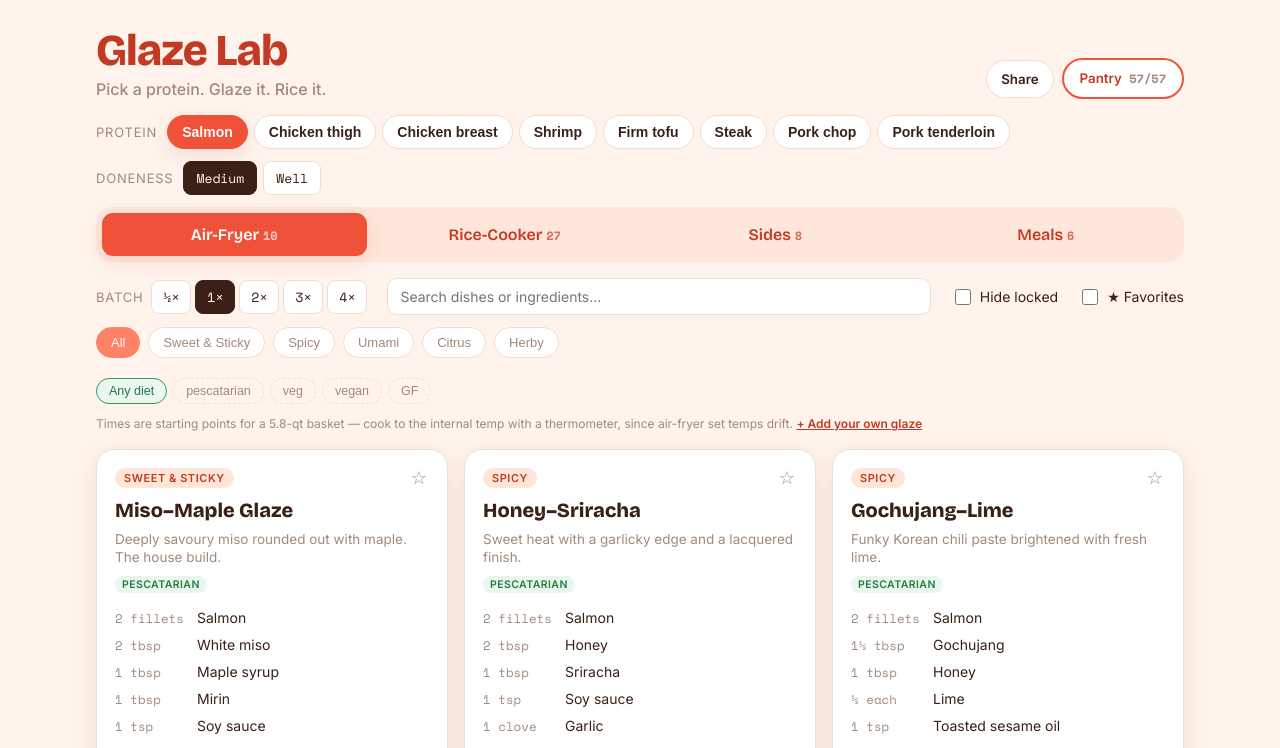
Test case: Glaze Lab app › injects the protein plus its researched temp, time and target internal
Check: the text "Salmon" is shown, box [197,609,246,626]
What coordinates should you click on to do the following:
click the button "Chicken thigh"
I would click on:
 (315, 132)
Its box is [254,115,376,149].
(page scrolled)
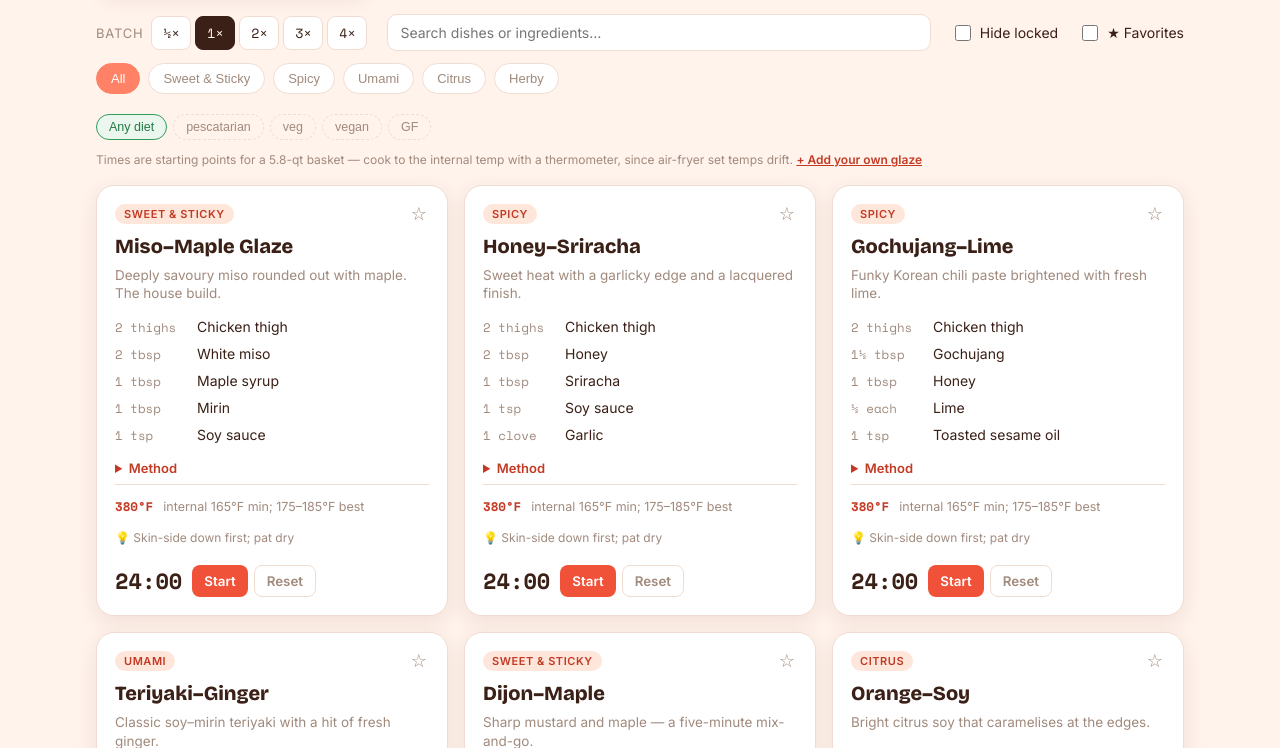
Check: the text "Chicken thigh" is shown, box [197,318,288,335]
Check: the text "380°F" is shown, box [96,185,448,616]
Check: the text "24:00" is shown, box [115,564,182,597]
